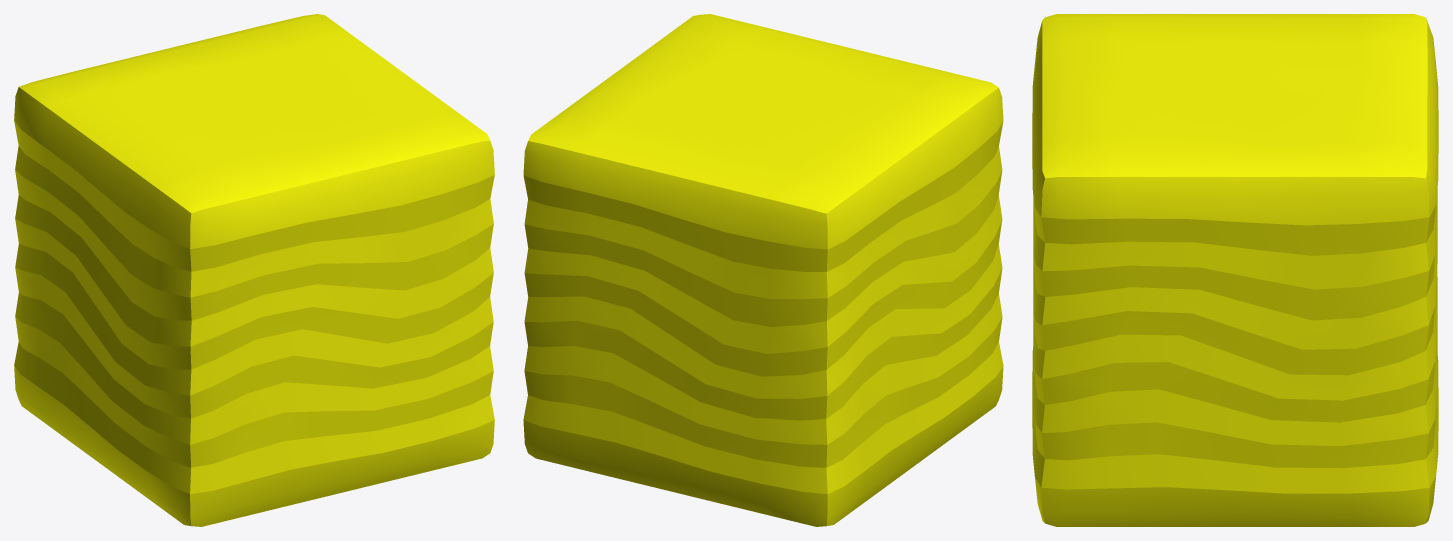
File: kaykit-sand-b.glb
3 renders of one model, left to right at view 1: azimuth 30°, elevation 25°; view 2: azimuth 150°, elevation 25°; view 3: azimuth 270°, elevation 25°, orthographic. The views are drawn at different scales.
Visible parts, largest first — view 1: sand_B; view 2: sand_B; view 3: sand_B.
Part boxes in pixels (x1=…): sand_B: x1=14, y1=14, x2=494, y2=526; sand_B: x1=523, y1=14, x2=1003, y2=526; sand_B: x1=1032, y1=14, x2=1438, y2=526.
Bounding box in the file's own units: 2.04 × 2 × 2.04.
